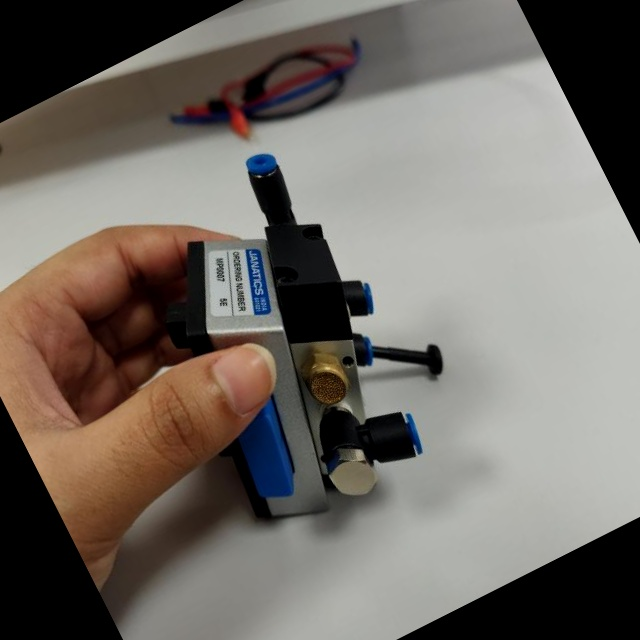5by2 DCV: (95, 99, 495, 556)
